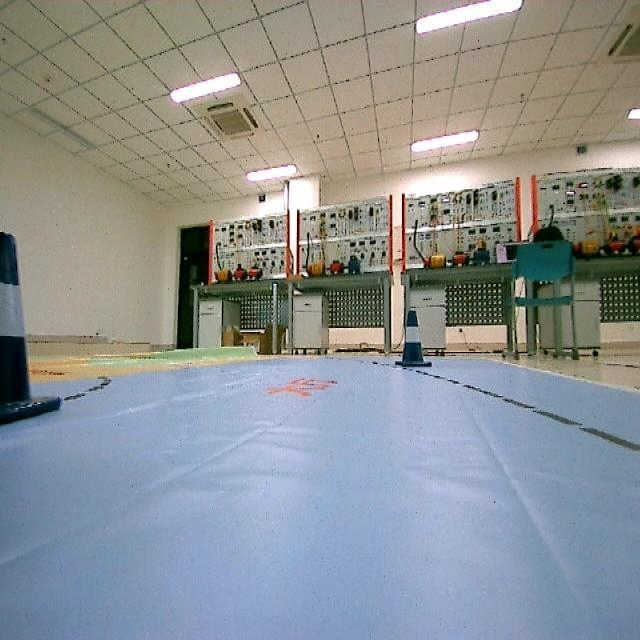obstacle: (394, 306, 432, 376)
